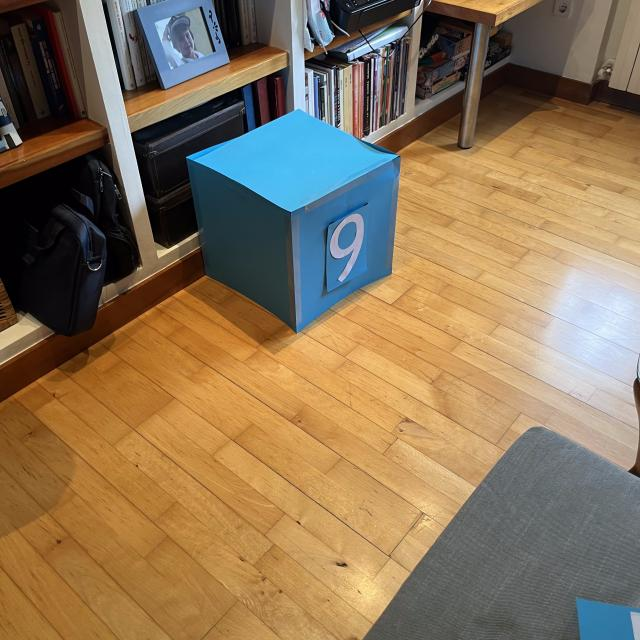box: (182, 106, 404, 335)
